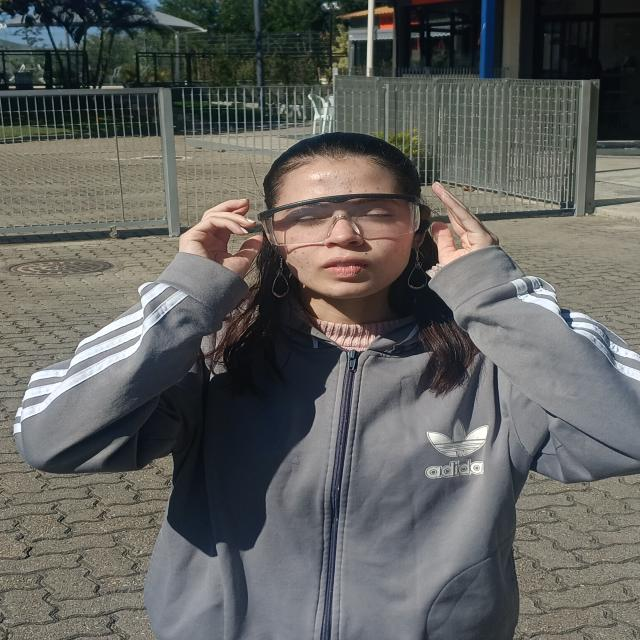oculos-epi: (260, 194, 420, 248)
